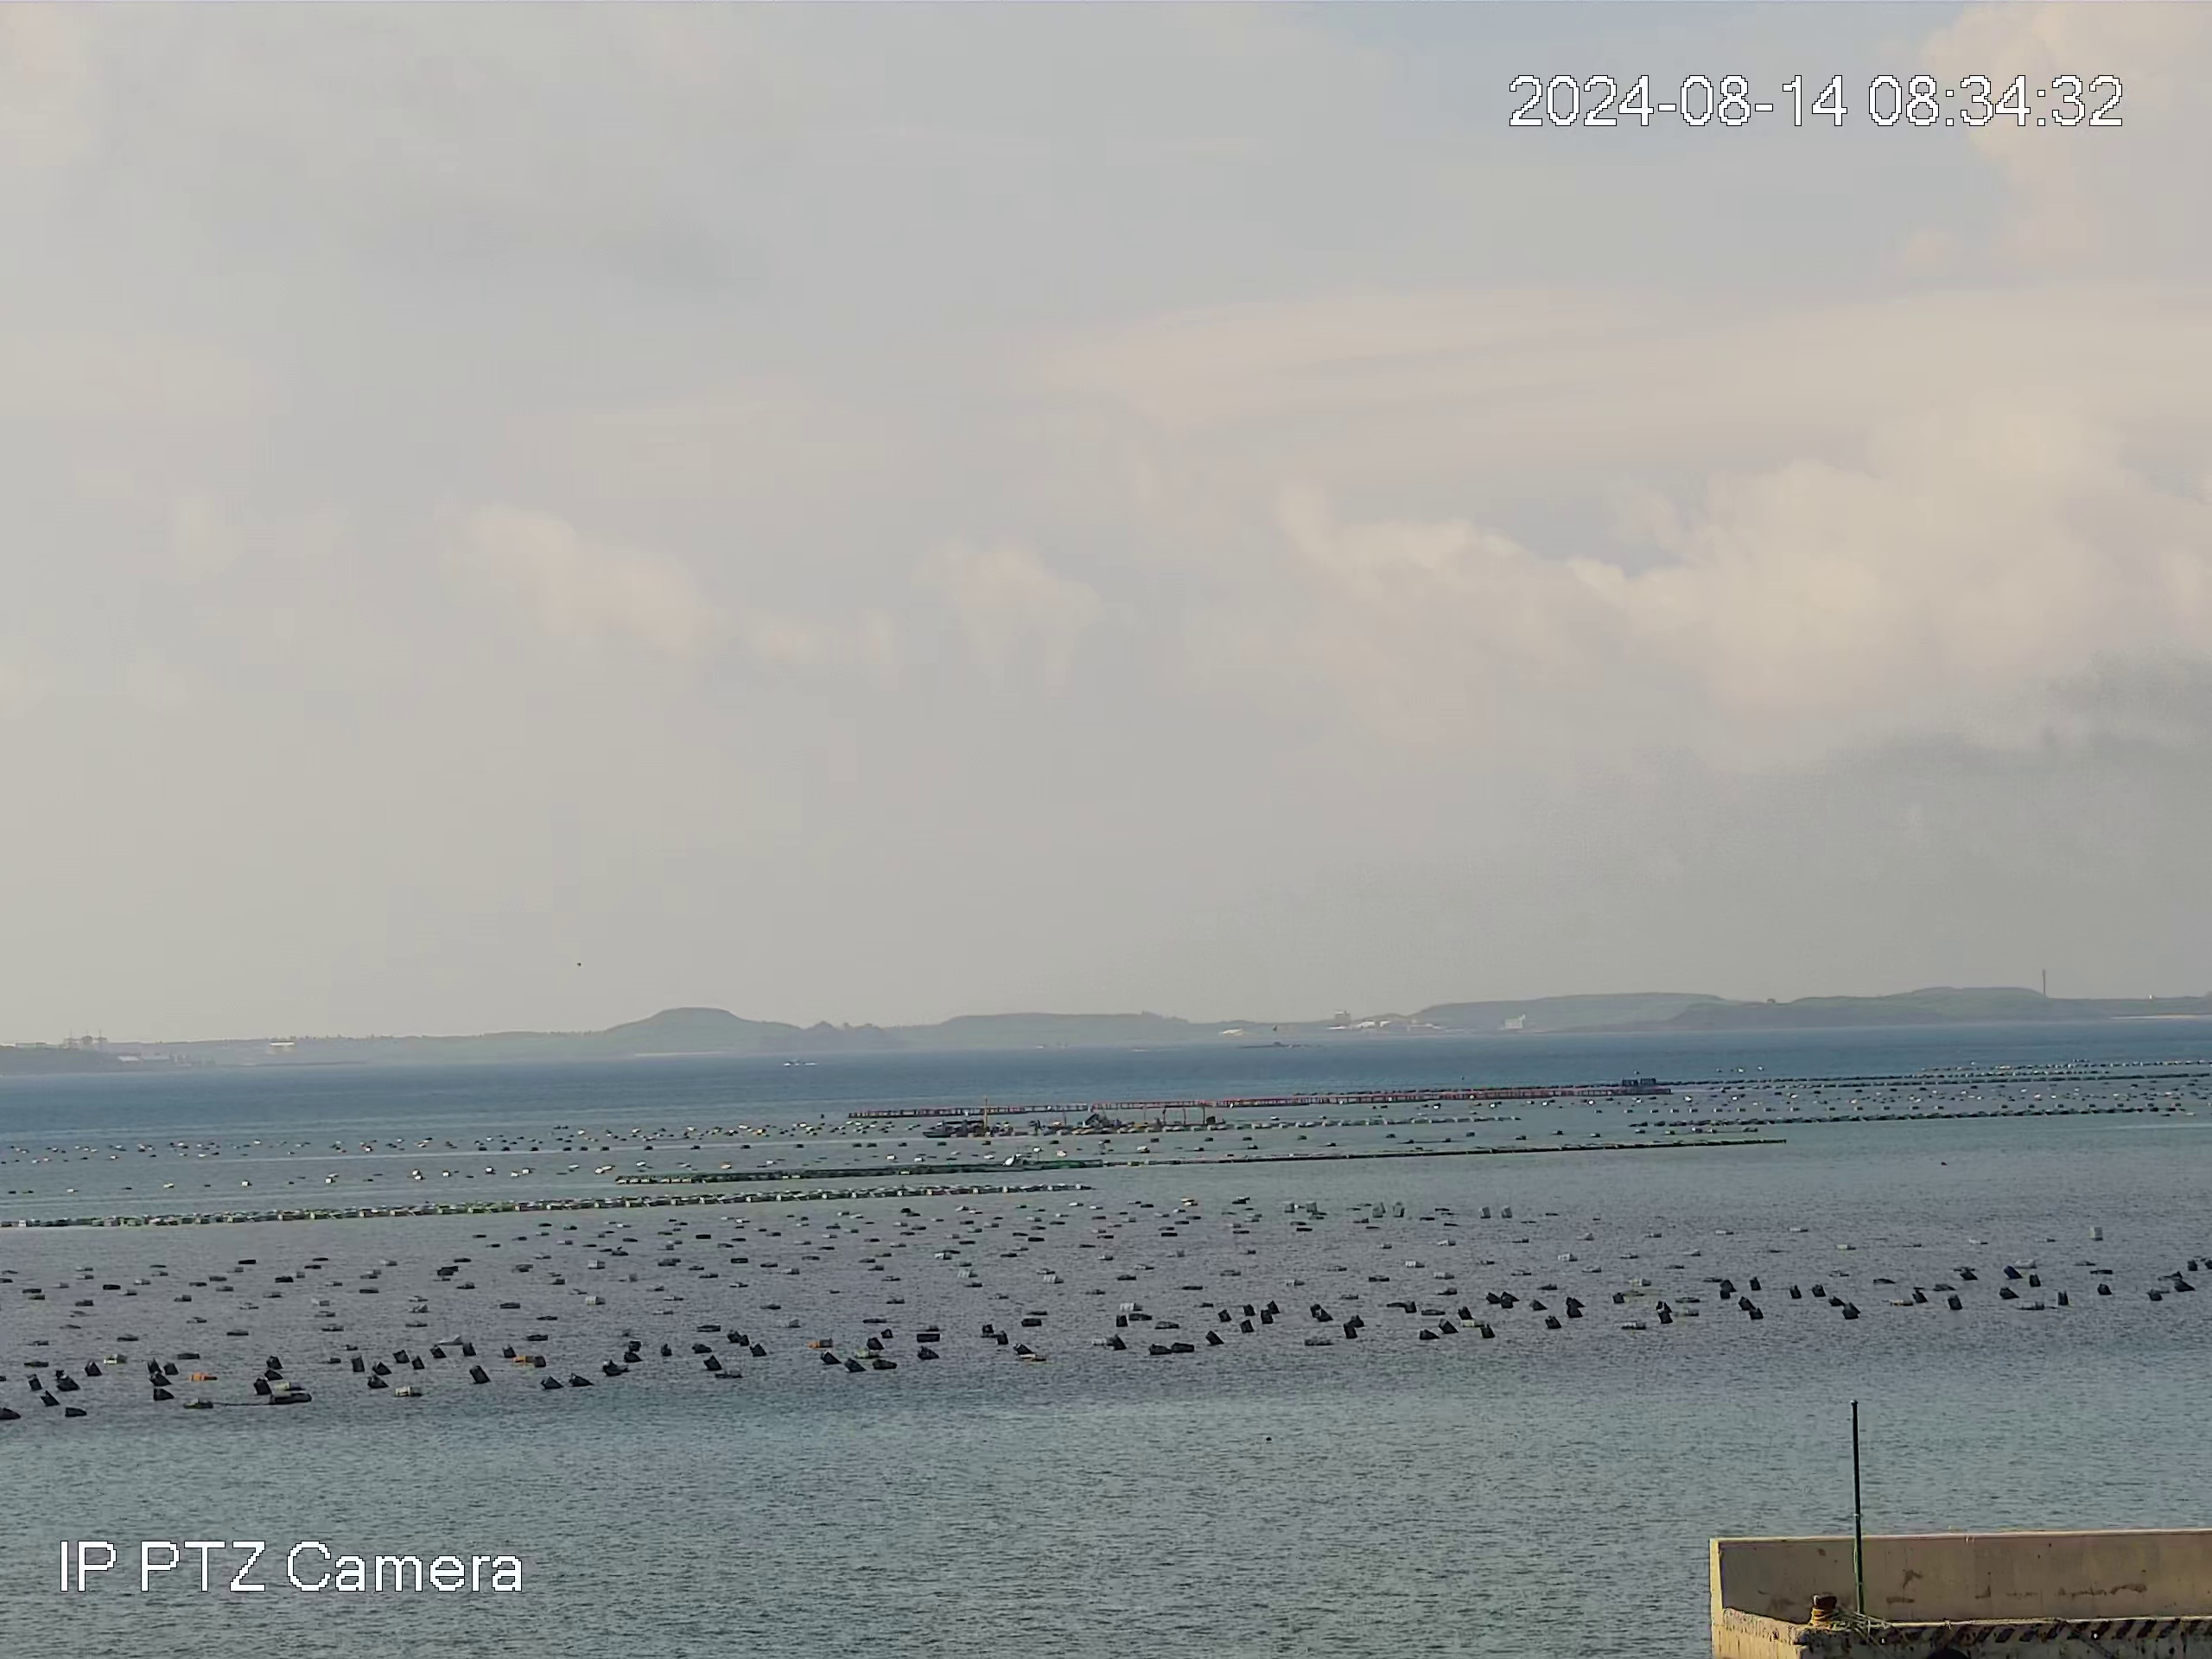boat: (921, 1121, 1000, 1140)
